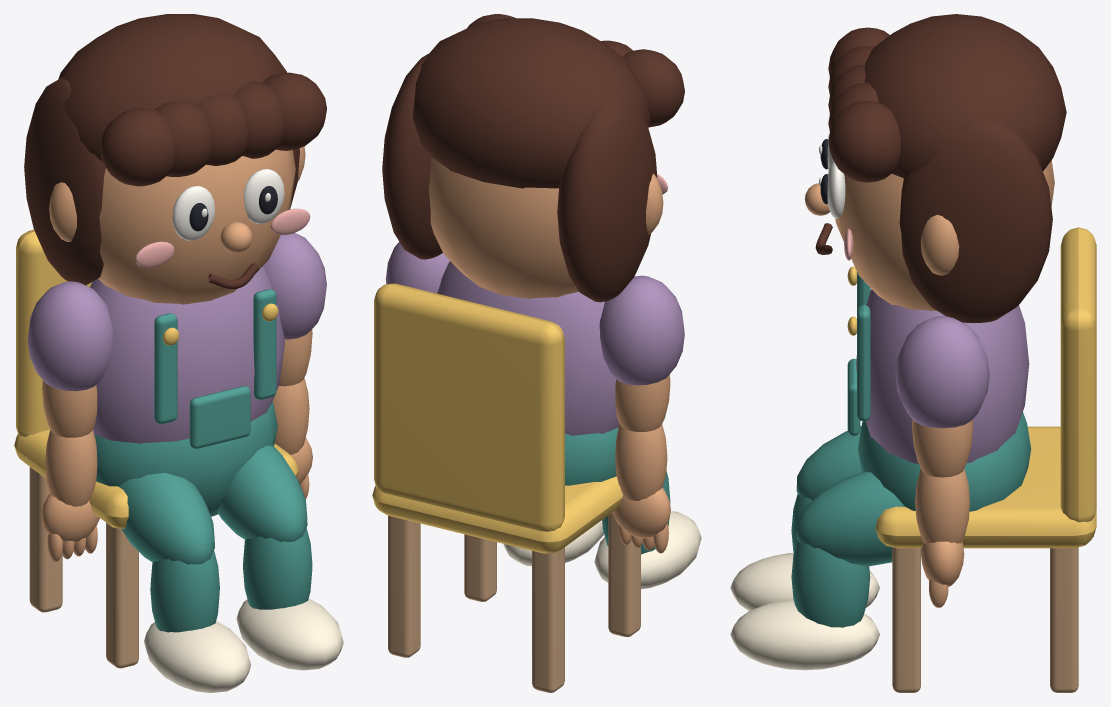
The model's file is mommy-stand.glb.
The picture shows the model from 3 angles, left to right: view 1: azimuth 30°, elevation 25°; view 2: azimuth 150°, elevation 25°; view 3: azimuth 270°, elevation 25°; orthographic projection. The views are drawn at different scales.
Parts seen in each view (by area): view 1: soft shirt, hair cap, clay head, bob hair, shirt sleeve, overalls, trouser leg, trouser leg.001, little shoe.001, little shoe, chair back, fringe (+26 smaller); view 2: chair back, hair cap, bob hair, clay head, soft shirt, shirt sleeve, chair seat, bob hair.001, chair leg.001, chair leg.003, forearm, chair leg (+9 smaller); view 3: bob hair.001, hair cap, soft shirt, chair back, chair seat, shirt sleeve.001, clay head, little shoe.001, trouser leg.001, overalls, lower leg.001, fringe.004 (+15 smaller).
Part boxes in pixels (x1,y1,x2,y2): soft shirt: [90, 266, 284, 443]; hair cap: [58, 14, 286, 162]; clay head: [98, 149, 295, 304]; bob hair: [24, 77, 105, 285]; shirt sleeve: [27, 281, 112, 391]; overalls: [94, 401, 277, 516]; trouser leg: [118, 472, 214, 564]; trouser leg.001: [217, 445, 307, 541]; little shoe.001: [236, 599, 343, 670]; little shoe: [144, 621, 250, 692]; chair back: [16, 229, 92, 436]; fringe: [100, 108, 174, 186]; chair back: [374, 283, 564, 531]; hair cap: [412, 18, 650, 188]; bob hair: [557, 100, 657, 302]; clay head: [429, 157, 578, 298]; soft shirt: [437, 261, 619, 435]; shirt sleeve: [599, 275, 684, 385]; chair seat: [372, 476, 622, 553]; bob hair.001: [382, 54, 442, 259]; chair leg.001: [532, 547, 564, 692]; chair leg.003: [388, 515, 420, 657]; forearm: [615, 424, 667, 500]; chair leg: [608, 512, 640, 636]; bob hair.001: [899, 119, 1052, 322]; hair cap: [864, 14, 1066, 178]; soft shirt: [856, 289, 1029, 463]; chair back: [1060, 227, 1096, 522]; chair seat: [875, 426, 1096, 548]; shirt sleeve.001: [895, 316, 989, 428]; clay head: [833, 160, 1054, 310]; little shoe.001: [730, 599, 879, 670]; trouser leg.001: [796, 471, 921, 566]; overalls: [858, 412, 1031, 511]; lower leg.001: [791, 540, 870, 627]; fringe.004: [828, 101, 900, 182].
Bounding box in the file's own units: 0.957 × 1.92 × 1.02.
